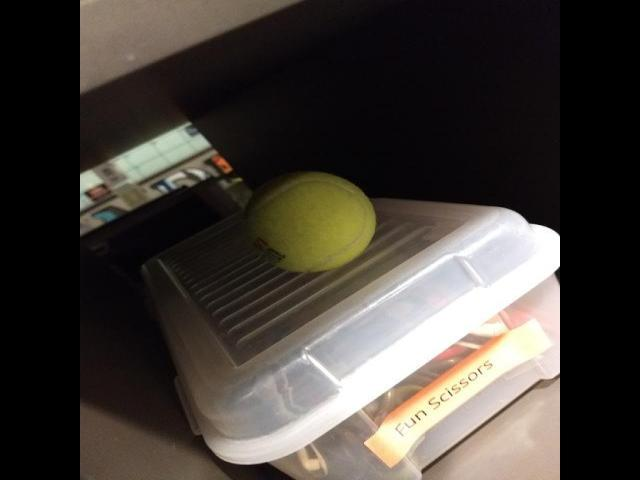tennis-ball: (238, 170, 380, 274)
